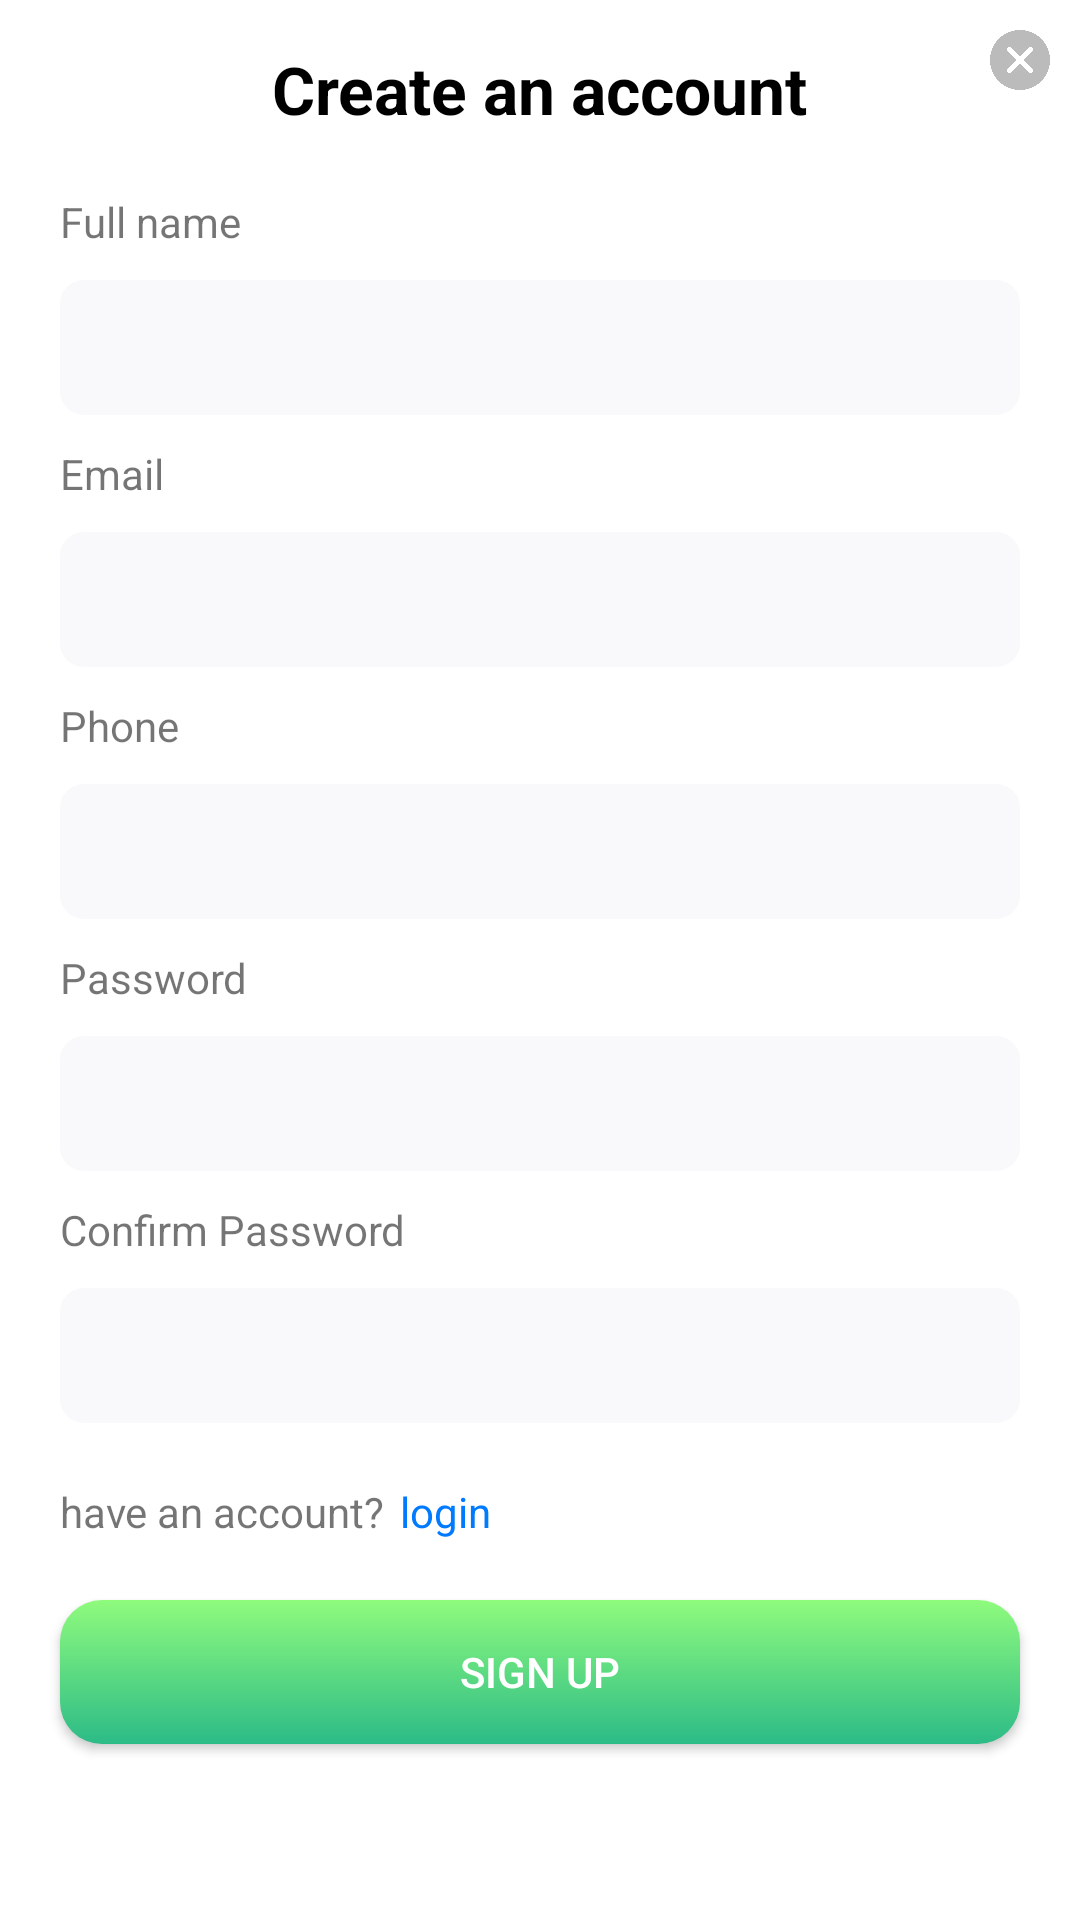

Named icons in this screenshot (1080x1920) and their centers, [x,y]:
cancel: [1020,60]
